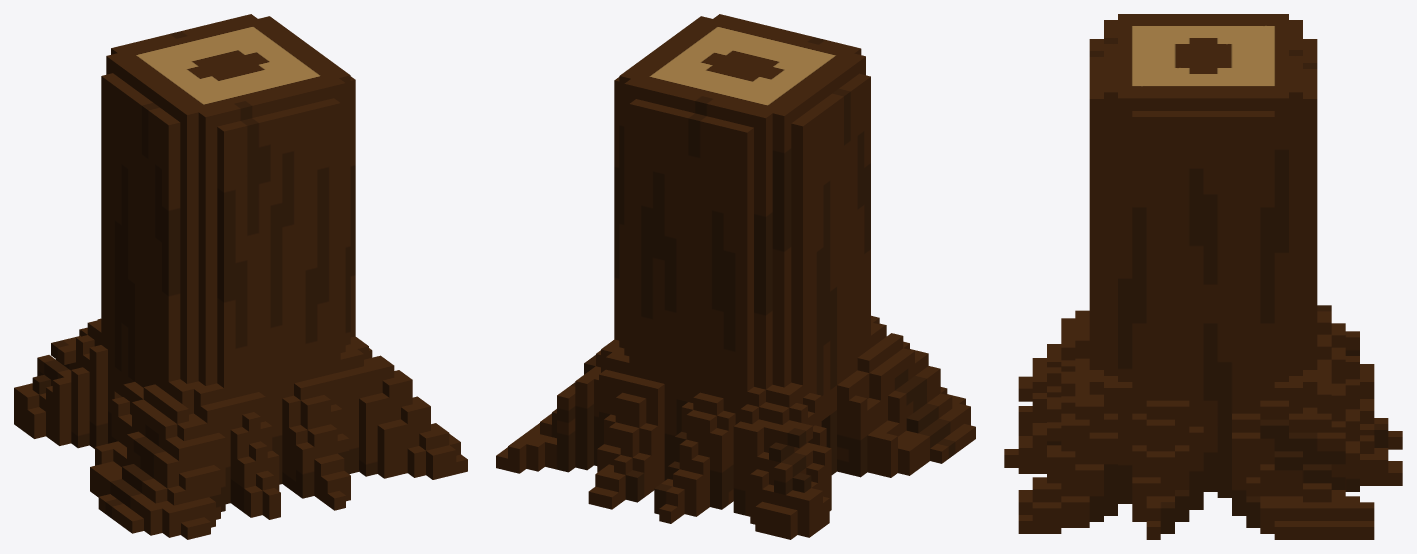
The model's file is tocon.fbx.
The picture shows the model from 3 angles, left to right: view 1: azimuth 30°, elevation 25°; view 2: azimuth 150°, elevation 25°; view 3: azimuth 270°, elevation 25°; orthographic projection. The views are drawn at different scales.
Parts seen in each view (by area): view 1: Box; view 2: Box; view 3: Box.
Part boxes in pixels (x1,y1,x2,y2): Box: (14,14,467,539); Box: (496,14,975,539); Box: (1004,14,1402,539).
Size of the model in its own units: 896 by 992 by 896.
